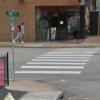Crosswalk: (27, 36, 89, 93)
